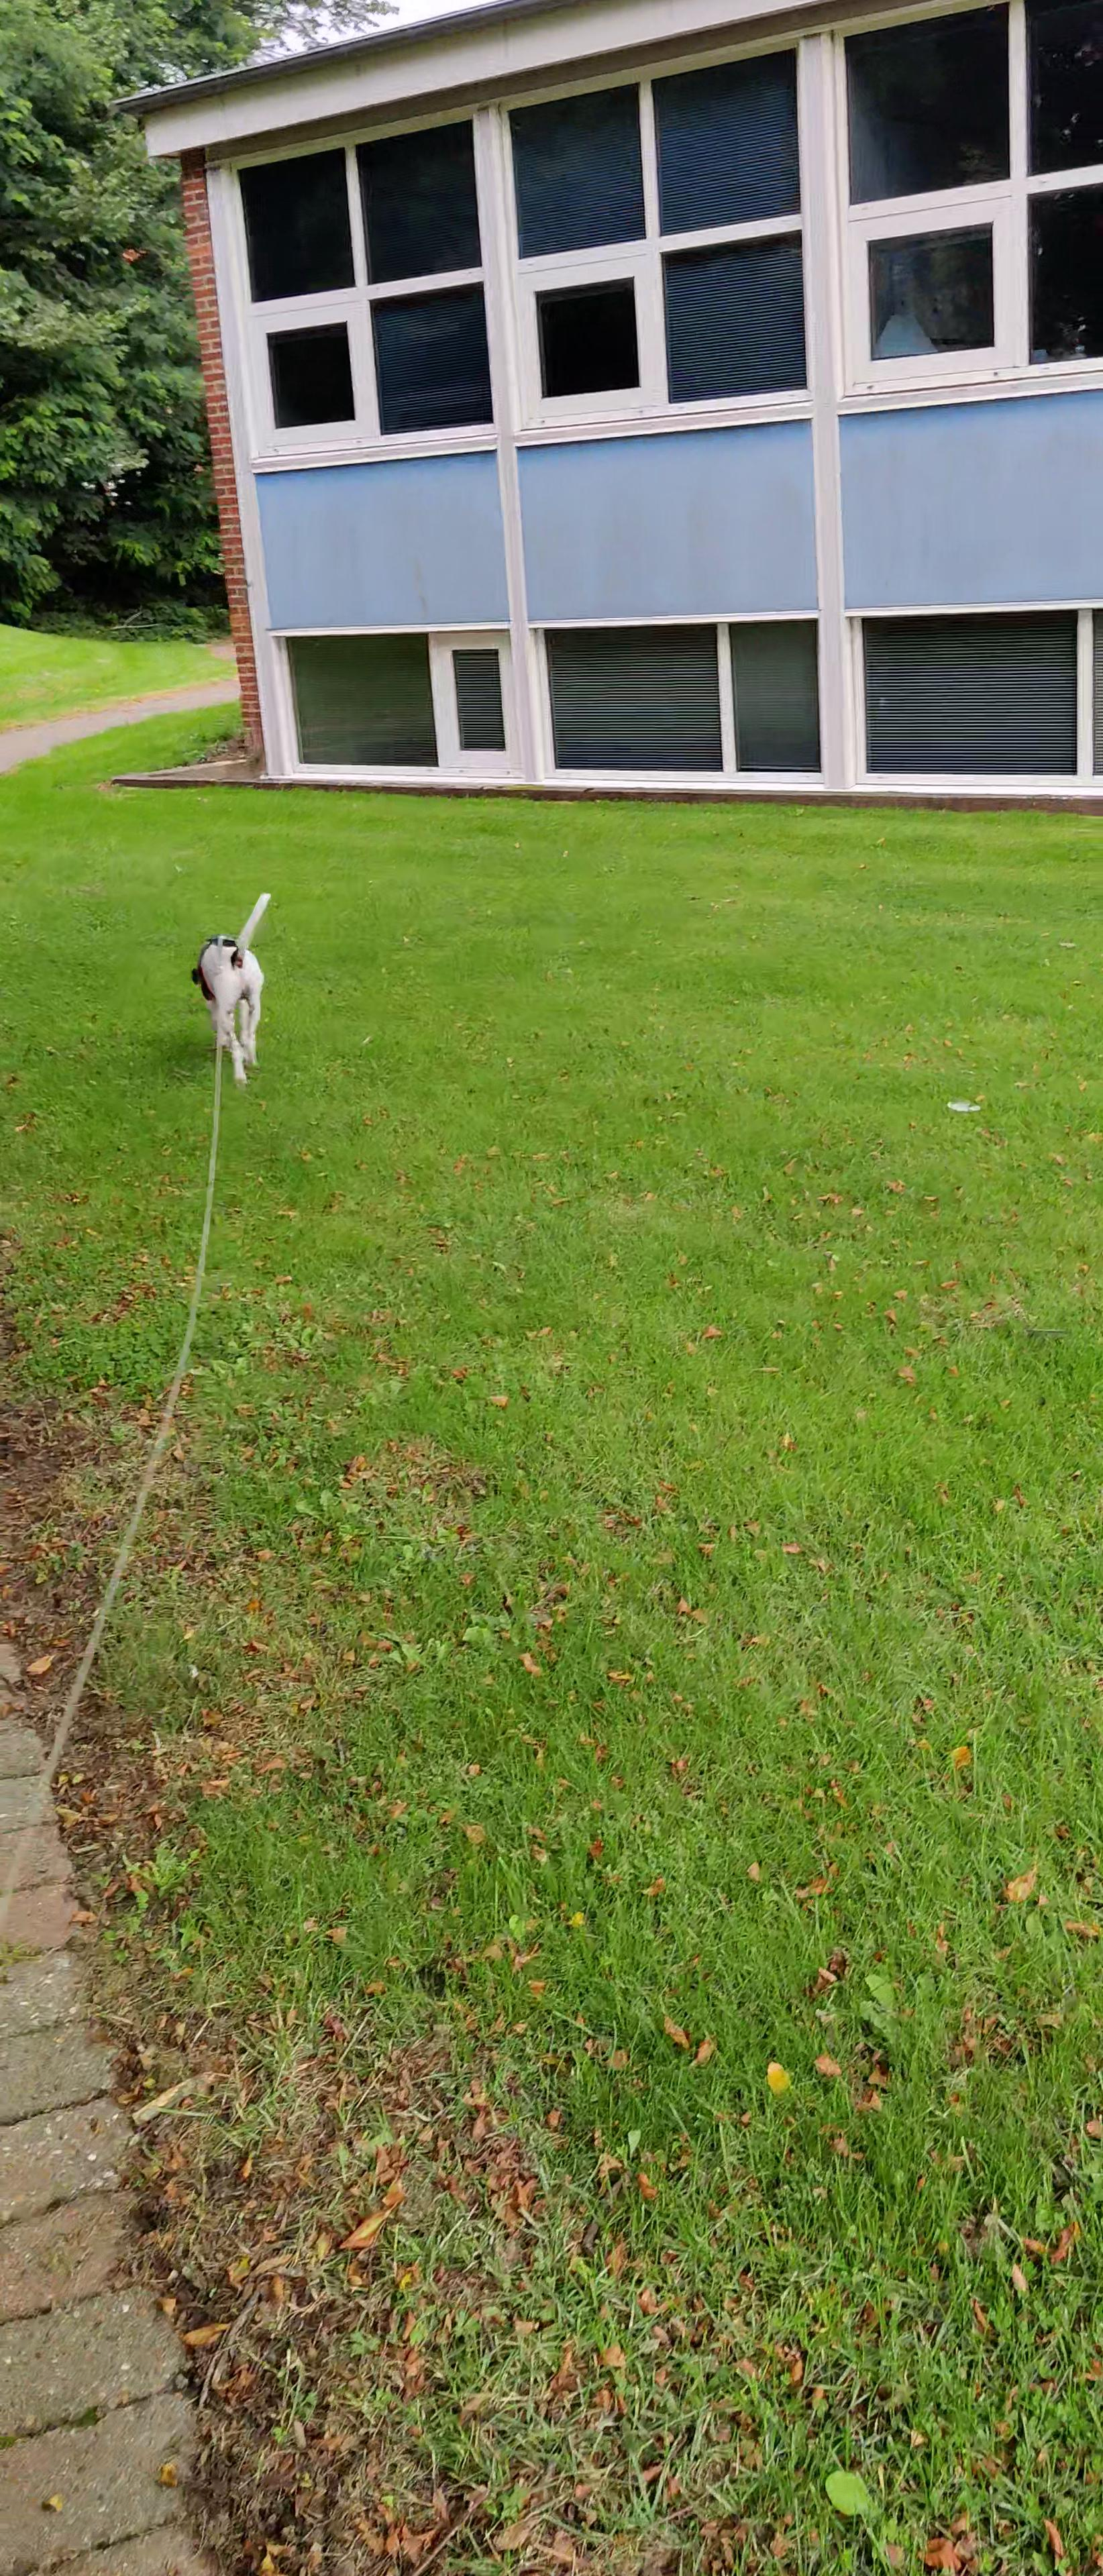Dog: (186, 889, 296, 1088)
